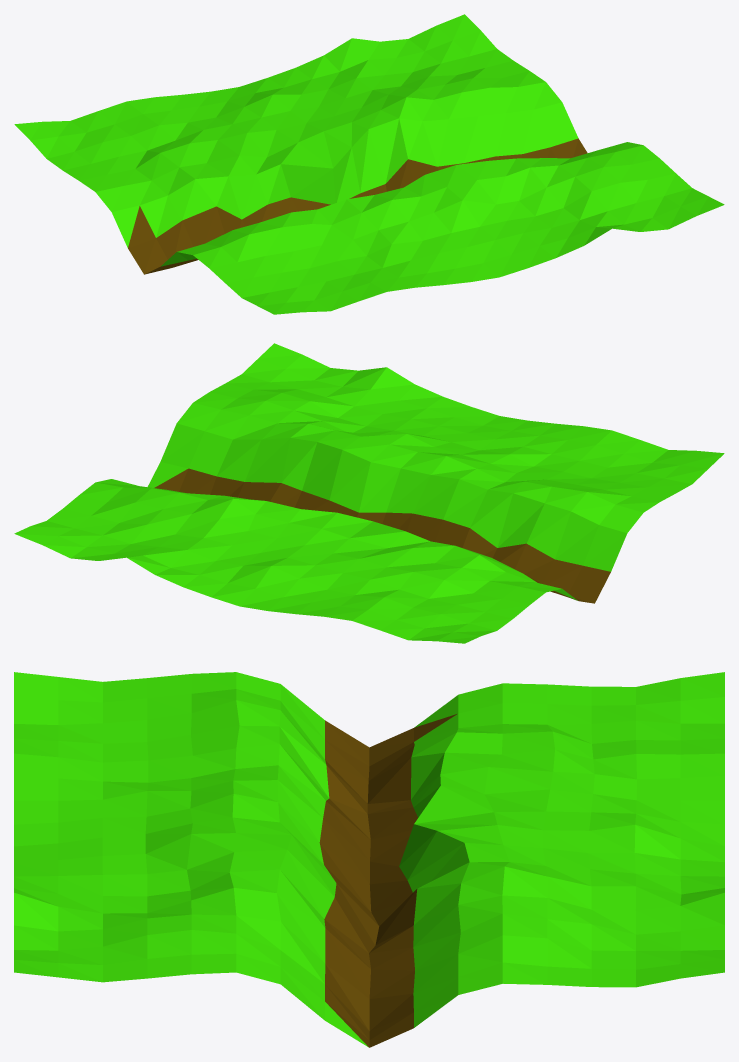
File: oja_top_2.fbx
3 renders of one model, top to bottom at view 1: azimuth 30°, elevation 25°; view 2: azimuth 150°, elevation 25°; view 3: azimuth 270°, elevation 25°, orthographic. The views are drawn at different scales.
Parts seen in each view (by area): view 1: oja_T_2; view 2: oja_T_2; view 3: oja_T_2.
Part boxes in pixels (x1,y1,x2,y2): oja_T_2: [14, 14, 724, 314]; oja_T_2: [14, 343, 724, 643]; oja_T_2: [14, 672, 724, 1047].
Size of the model in its own units: 2000 by 341 by 2000.
